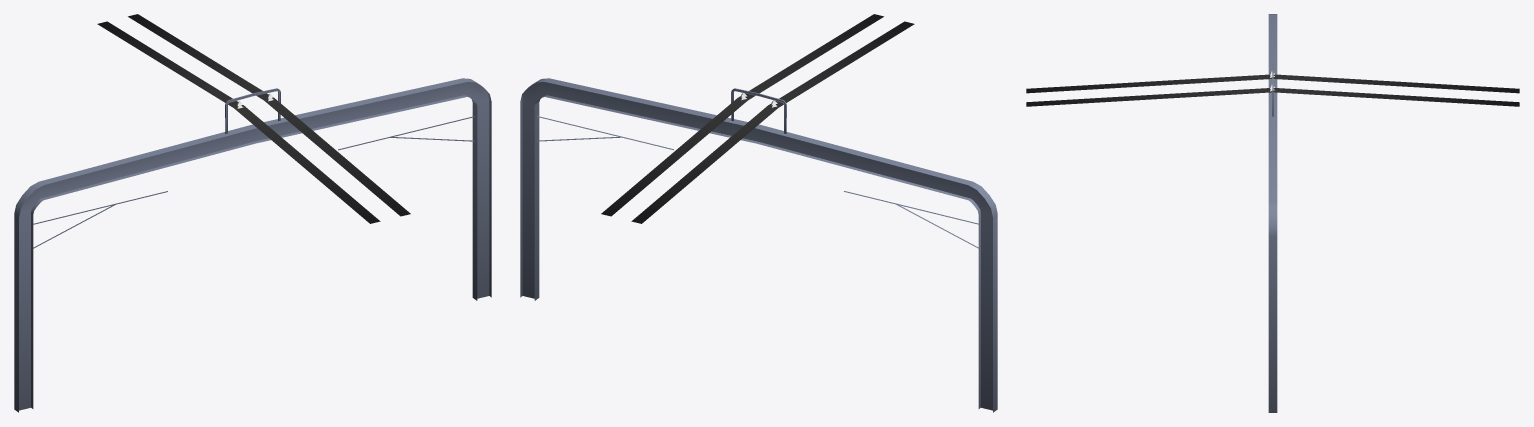
Rendered from KASENCHU_T00.glb.
3 renders of one model, left to right at view 1: azimuth 30°, elevation 25°; view 2: azimuth 150°, elevation 25°; view 3: azimuth 270°, elevation 25°, orthographic. The views are drawn at different scales.
Parts seen in each view (by area): view 1: FRAME_ROOT; view 2: FRAME_ROOT; view 3: FRAME_ROOT.
Part boxes in pixels (x1,y1,x2,y2): FRAME_ROOT: (14, 14, 491, 412); FRAME_ROOT: (520, 14, 997, 412); FRAME_ROOT: (1026, 14, 1519, 412).
Bounding box in the file's own units: 39.55 × 20.78 × 39.61.
Materials: 3 (2 with a texture image).
